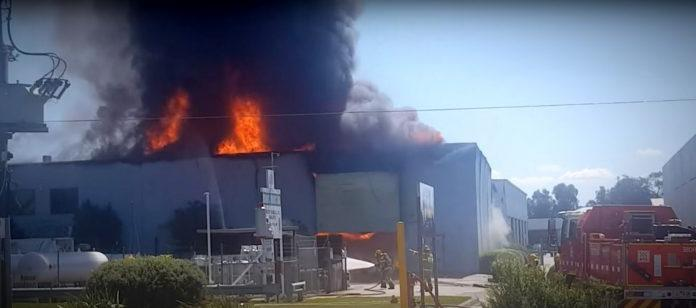fire: (216, 93, 275, 158), (146, 86, 188, 159)
